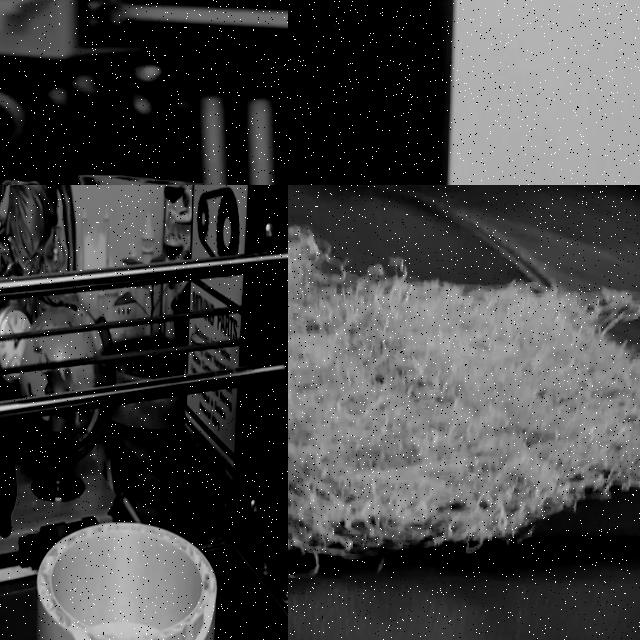spaghetti: (288, 228, 640, 572)
